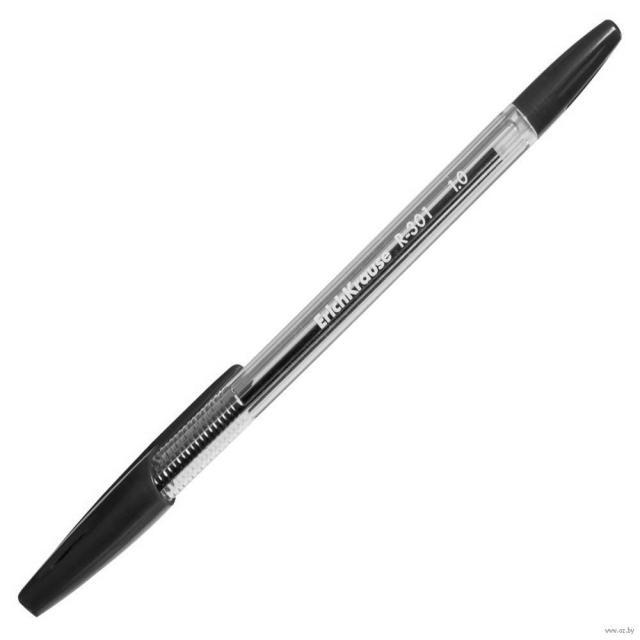pencil: (2, 9, 629, 624)
